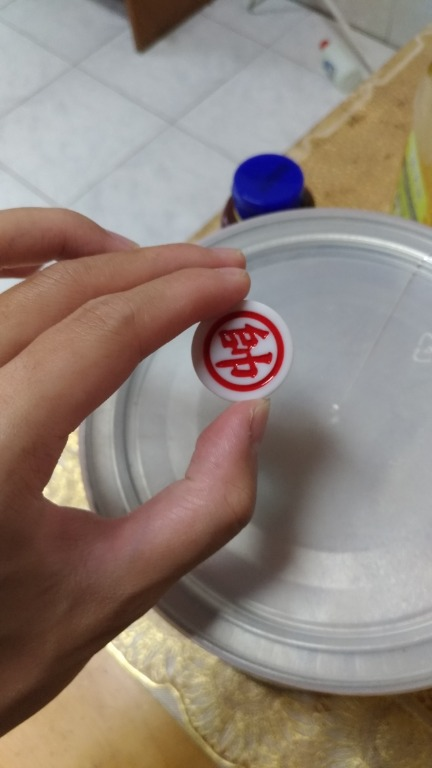r-king: (191, 303, 293, 404)
